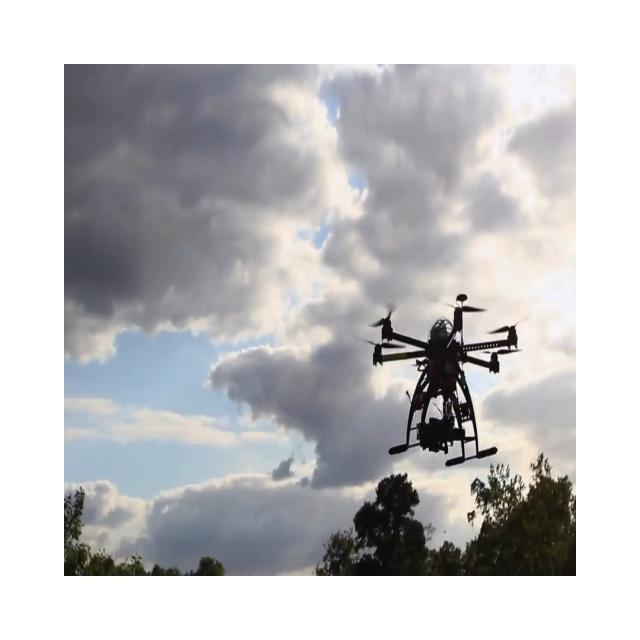drone: (362, 292, 527, 467)
